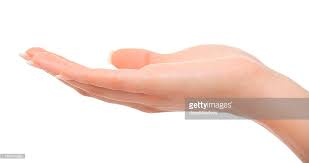hand: (9, 20, 269, 122)
